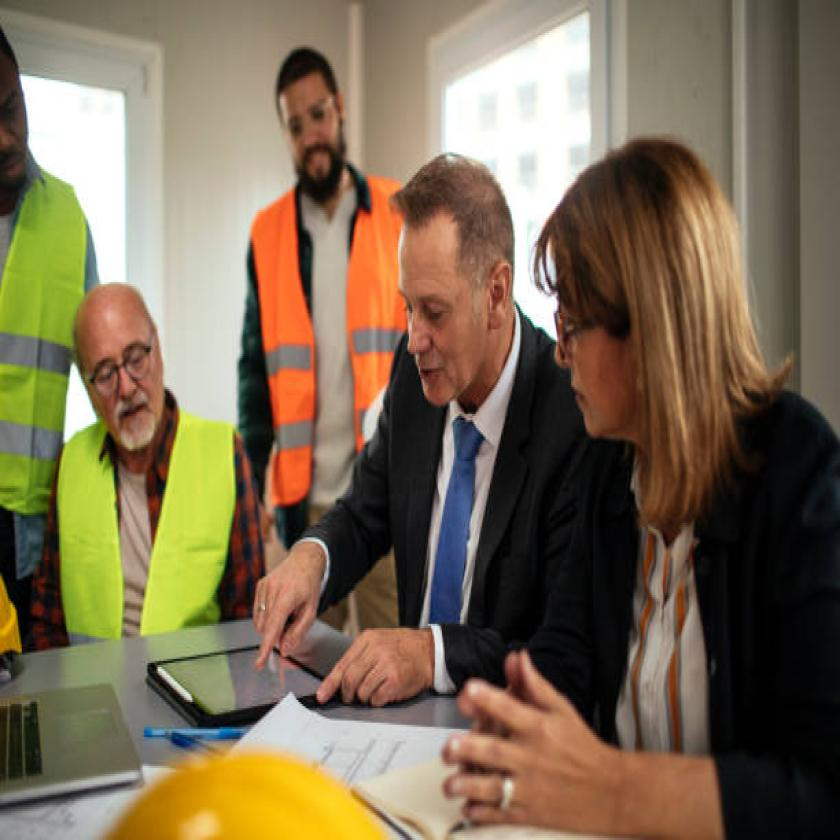Sin_casco: (547, 126, 758, 478), (393, 152, 531, 409), (72, 255, 178, 461), (265, 46, 355, 214)
